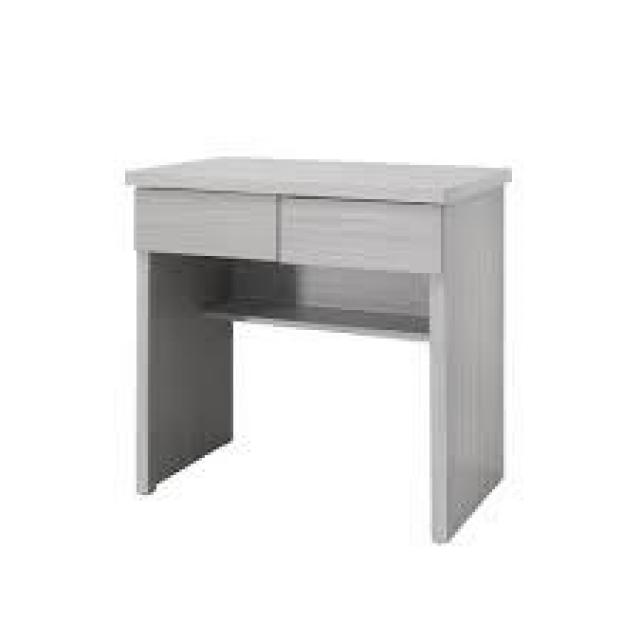desk: (58, 118, 542, 562)
